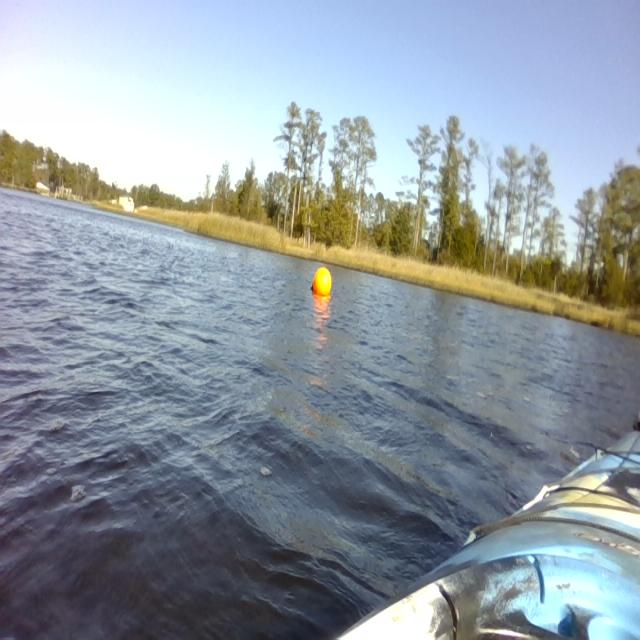Buoy: (306, 263, 339, 311)
